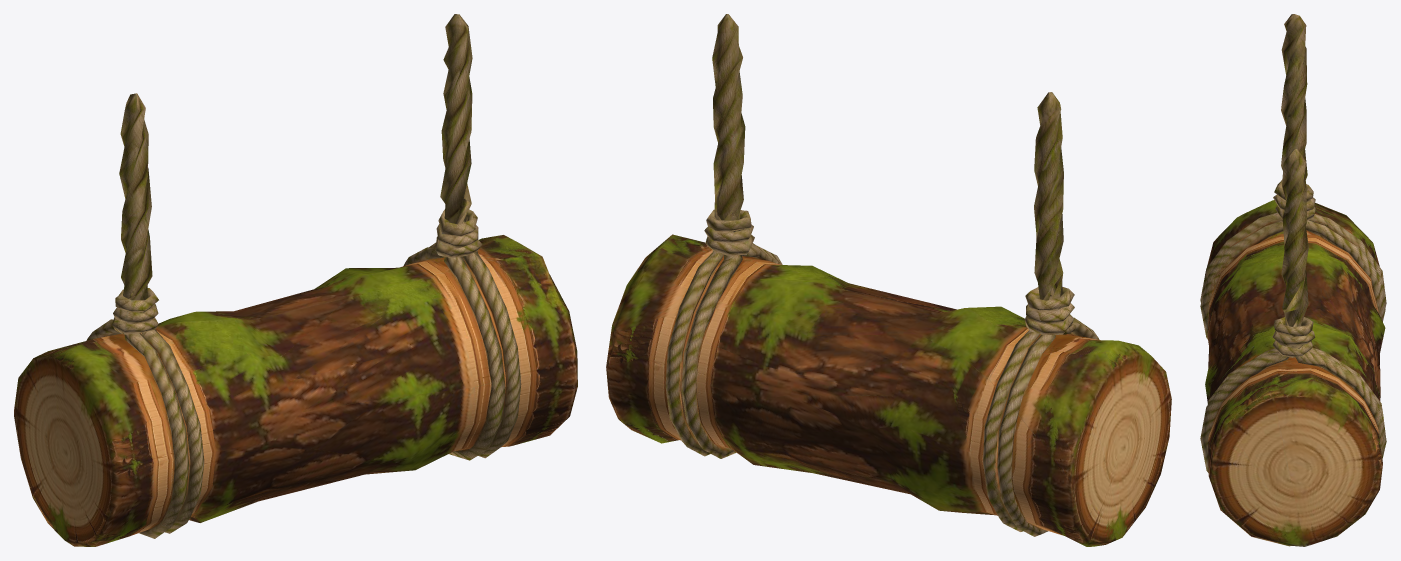
File: LogRam.fbx
The picture shows the model from 3 angles, left to right: view 1: azimuth 30°, elevation 25°; view 2: azimuth 150°, elevation 25°; view 3: azimuth 270°, elevation 25°; orthographic projection. The views are drawn at different scales.
Visible parts, largest first — view 1: LogRam; view 2: LogRam; view 3: LogRam.
Part boxes in pixels (x1,y1,x2,y2): LogRam: (14,14,577,546); LogRam: (606,14,1171,546); LogRam: (1200,14,1386,546).
Size of the model in its own units: 2 by 1.79 by 0.8053.
Materials: 1 (1 with a texture image).
